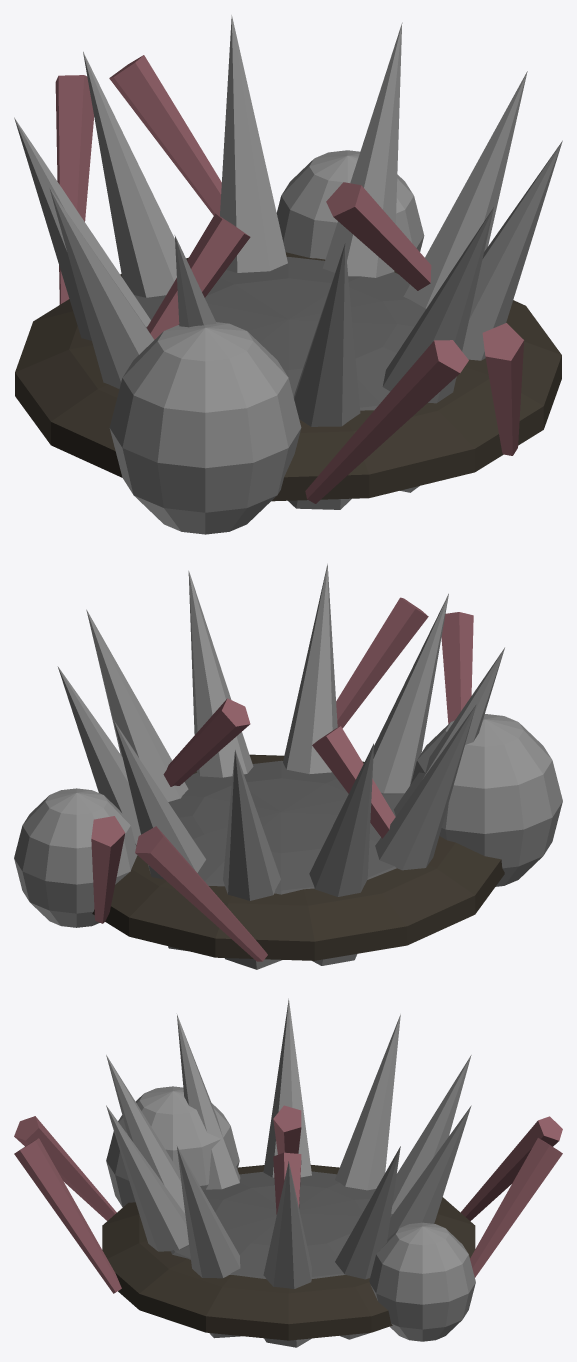
File: bl_roost.glb
3 renders of one model, top to bottom at view 1: azimuth 30°, elevation 25°; view 2: azimuth 150°, elevation 25°; view 3: azimuth 270°, elevation 25°, orthographic. The views are drawn at different scales.
Visible parts, largest first — view 1: body; view 2: body; view 3: body.
Boxes of the visible parts, x1,y1,x2,y2 form: body: [14, 15, 562, 534]; body: [14, 564, 562, 969]; body: [14, 998, 562, 1347].
Size of the model in its own units: 84.68 by 51.38 by 118.
